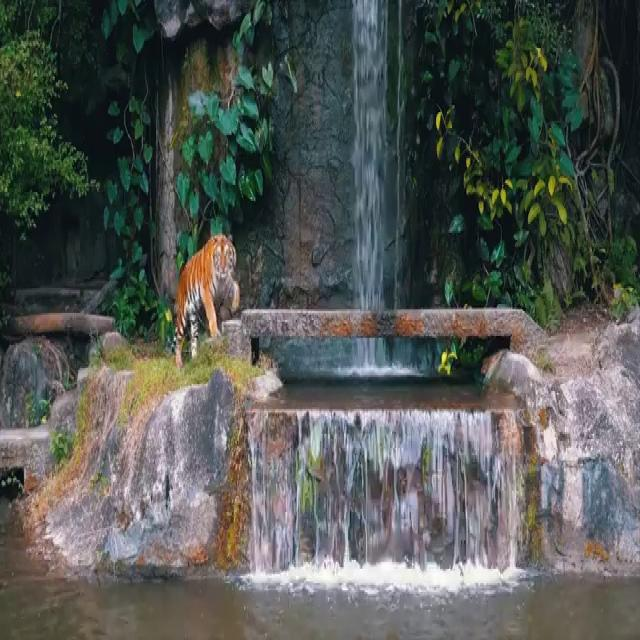tiger: (167, 233, 240, 367)
